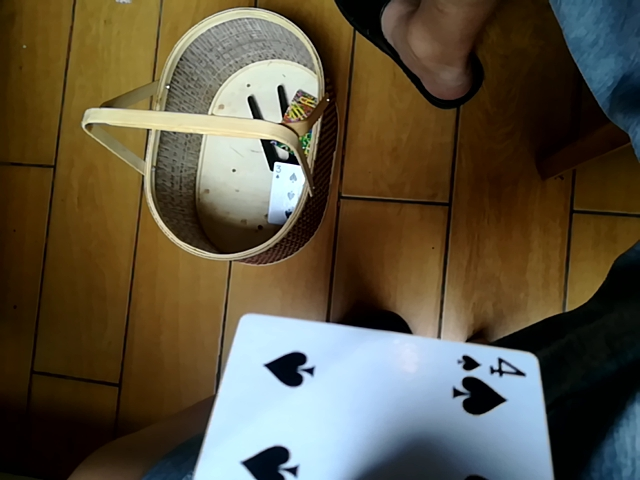ht 4: (188, 315, 555, 479)
